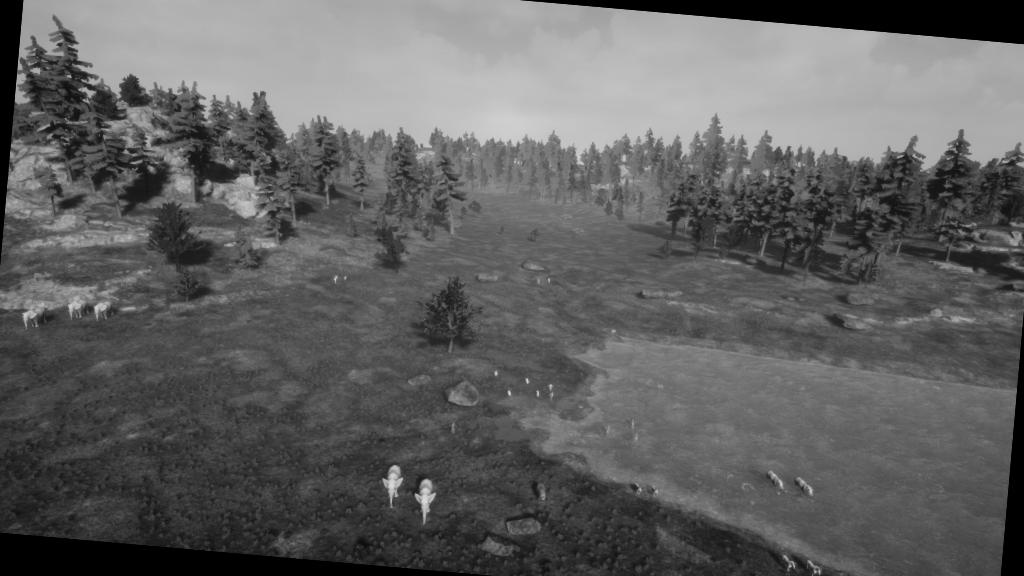elephant: (410, 474, 439, 527), (378, 462, 406, 510), (18, 304, 50, 335), (64, 298, 92, 324), (92, 299, 118, 324)
human: (448, 420, 459, 436), (629, 416, 637, 432), (604, 422, 612, 436), (534, 388, 542, 400), (633, 432, 640, 443), (547, 382, 554, 392)
zebra: (776, 552, 798, 575), (803, 555, 825, 575)
